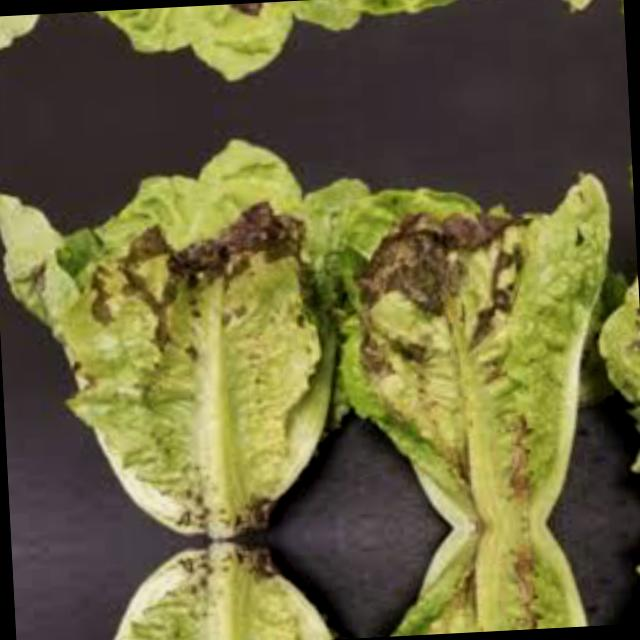Downy_mildew: (1, 149, 371, 533), (338, 159, 603, 523), (21, 549, 376, 640), (356, 530, 608, 638), (0, 0, 346, 75), (328, 0, 577, 36)
